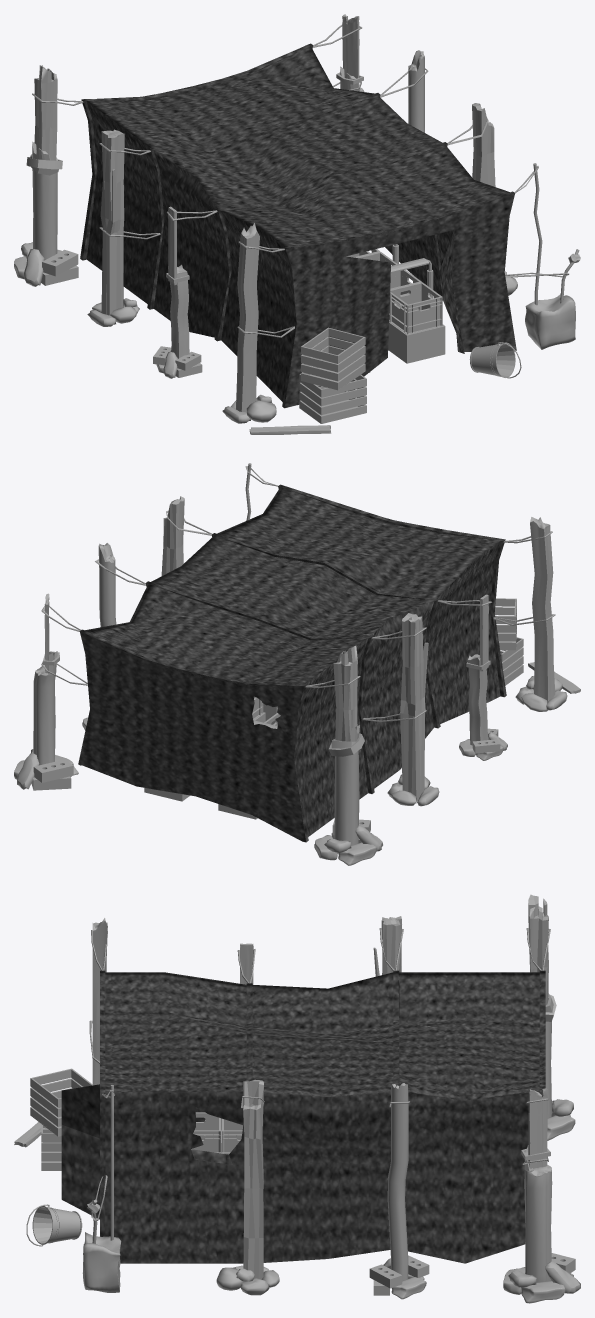
The model's file is NewFarm.fbx.
The picture shows the model from 3 angles, top to bottom: view 1: azimuth 30°, elevation 25°; view 2: azimuth 150°, elevation 25°; view 3: azimuth 270°, elevation 25°; orthographic projection. The views are drawn at different scales.
Parts seen in each view (by area): view 1: Farm_Farm, pCube81, Pole4, pCube82 (×2), pCube33 (×2), WoodPole_Cylin1, MilkCrate1_main5, pCube85, pCube31 (×2), Base, WoodPole_Rect2, Bucket (+9 smaller); view 2: Farm_Farm, pCube81, Pole4, pCube82 (×2), WoodPole_Cylin1, WoodPole_Cylin2, WoodPole_Rect2, Pole5, pCube31, BricksWithHole2, WoodPlank27, BrickBasic2 (+1 smaller); view 3: Farm_Farm, pCube82 (×2), Pole5, WoodPole_Cylin2, pCube85, Pole4, Bucket, WoodPlank_Broken8, pCube81, pCube33, MilkCrate1_main7, pCube32 (+8 smaller).
Part boxes in pixels (left/top/right/bottom): Farm_Farm: left=80, top=43, right=516, bottom=408; pCube81: left=100, top=129, right=124, bottom=315; Pole4: left=236, top=223, right=259, bottom=412; pCube82 (×2): left=34, top=65, right=495, bottom=186; pCube33 (×2): left=322, top=337, right=365, bottom=423; WoodPole_Cylin1: left=32, top=141, right=57, bottom=260; MilkCrate1_main5: left=389, top=282, right=442, bottom=334; pCube85: left=525, top=294, right=575, bottom=349; pCube31 (×2): left=299, top=346, right=338, bottom=423; Base: left=388, top=322, right=445, bottom=363; WoodPole_Rect2: left=168, top=264, right=189, bottom=358; Bucket: left=469, top=342, right=515, bottom=377; Farm_Farm: left=78, top=484, right=506, bottom=842; pCube81: left=400, top=613, right=428, bottom=803; Pole4: left=530, top=517, right=555, bottom=701; pCube82 (×2): left=161, top=496, right=357, bottom=741; WoodPole_Cylin1: left=334, top=725, right=359, bottom=845; WoodPole_Cylin2: left=33, top=651, right=57, bottom=765; WoodPole_Rect2: left=468, top=654, right=488, bottom=754; Pole5: left=98, top=543, right=116, bottom=627; pCube31: left=501, top=638, right=523, bottom=685; BricksWithHole2: left=33, top=759, right=73, bottom=782; WoodPlank27: left=480, top=594, right=488, bottom=671; BrickBasic2: left=338, top=842, right=376, bottom=865; Farm_Farm: left=61, top=970, right=545, bottom=1263; pCube82 (×2): left=243, top=894, right=548, bottom=1279; Pole5: left=387, top=1083, right=408, bottom=1280; WoodPole_Cylin2: left=524, top=1145, right=552, bottom=1282; pCube85: left=82, top=1232, right=121, bottom=1292; Pole4: left=92, top=918, right=107, bottom=1085; Bucket: left=32, top=1206, right=82, bottom=1244; WoodPlank_Broken8: left=528, top=1088, right=547, bottom=1168; pCube81: left=373, top=916, right=401, bottom=976; pCube33: left=31, top=1078, right=58, bottom=1135; MilkCrate1_main7: left=193, top=1112, right=221, bottom=1153; pCube32: left=41, top=1133, right=61, bottom=1170.
Size of the model in its own units: 5.16 by 2.85 by 6.41.
